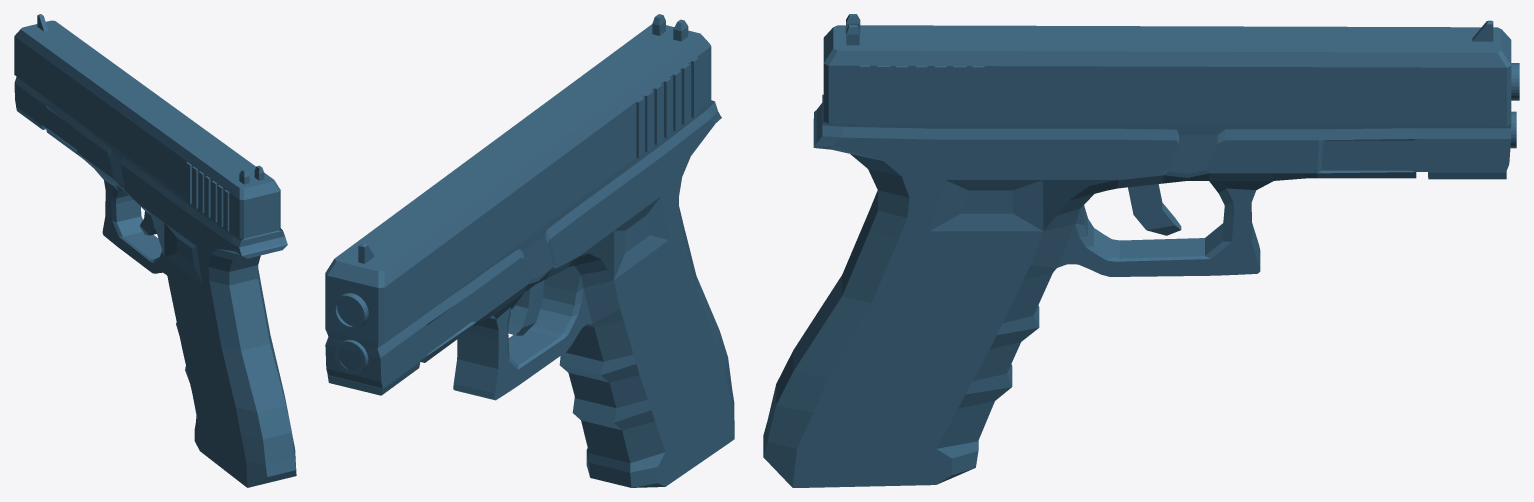
Rendered from Runner_gun (4).fbx.
3 views of the same model, side by side, from view 1: azimuth 30°, elevation 25°; view 2: azimuth 150°, elevation 25°; view 3: azimuth 270°, elevation 25° (orthographic). The views are drawn at different scales.
Parts seen in each view (by area): view 1: Grip; view 2: Grip; view 3: Grip.
Part boxes in pixels (bbox=[...]): Grip: bbox=[14, 14, 296, 487]; Grip: bbox=[325, 14, 734, 487]; Grip: bbox=[763, 14, 1519, 487].
Bounding box in the file's own units: 110 × 640 × 977.
